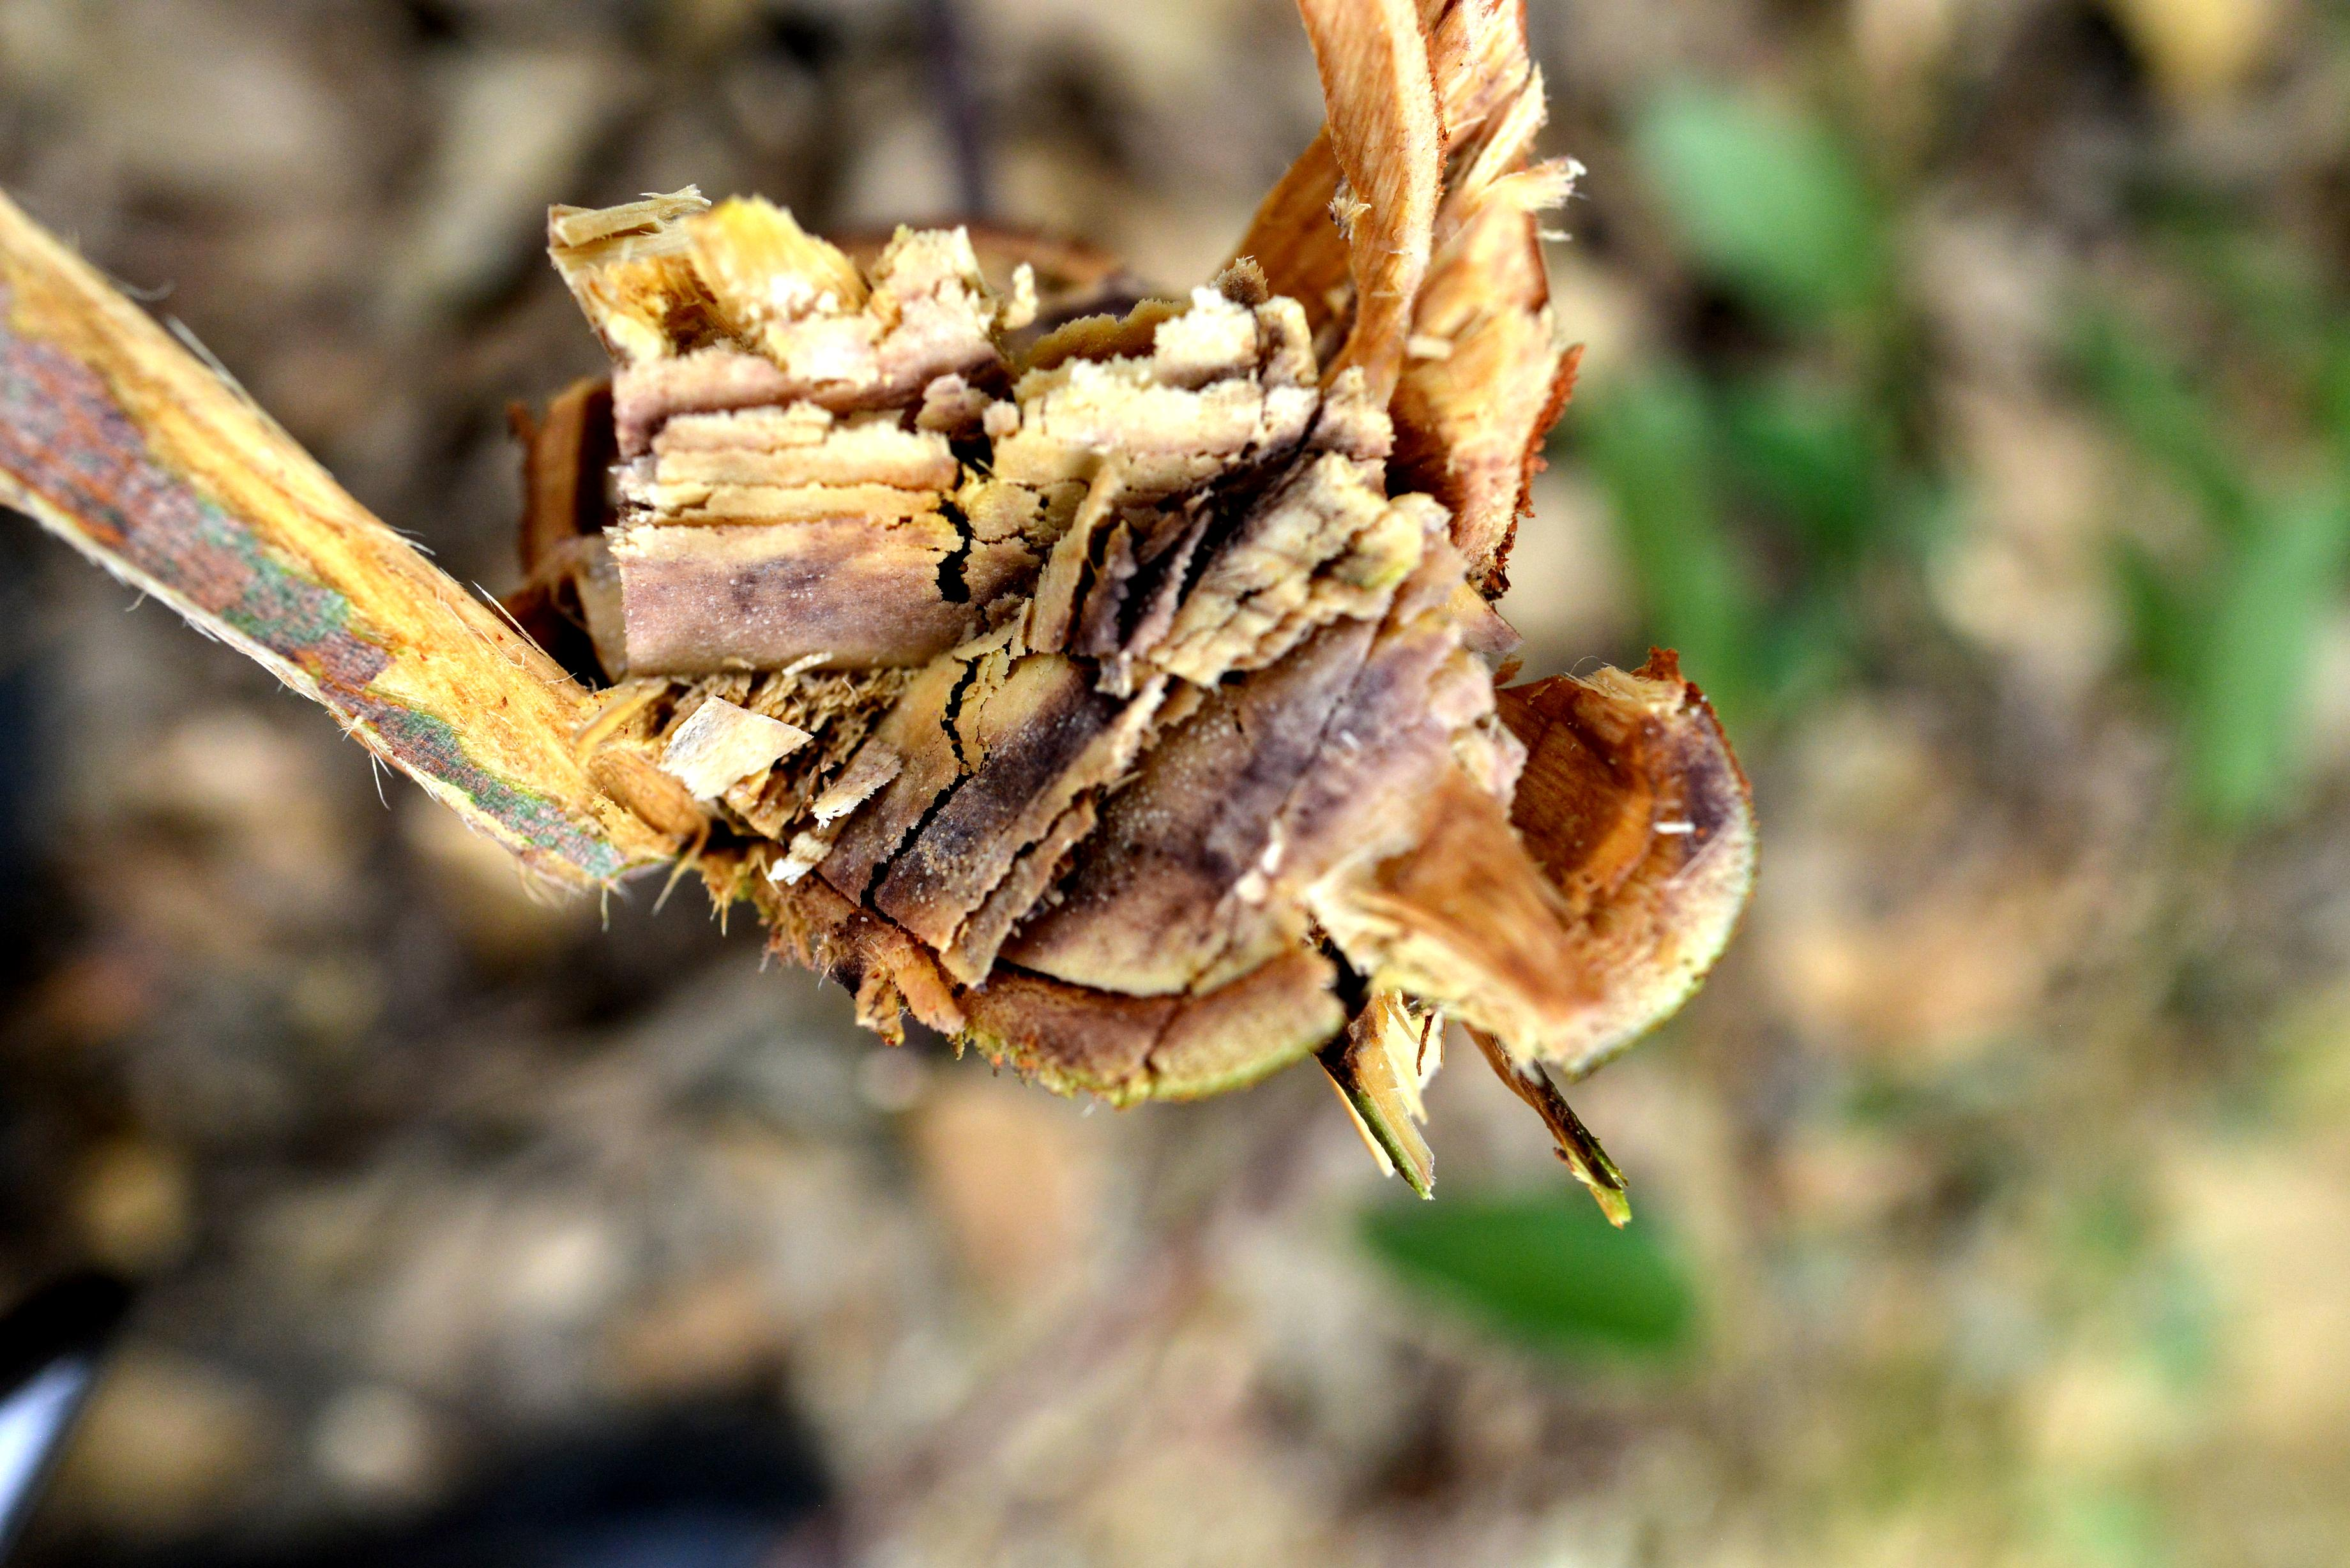Ralstonia: (1076, 579, 1431, 943), (1125, 401, 1351, 563), (831, 759, 1039, 929), (656, 548, 891, 640), (983, 672, 1130, 751), (719, 254, 845, 318)
